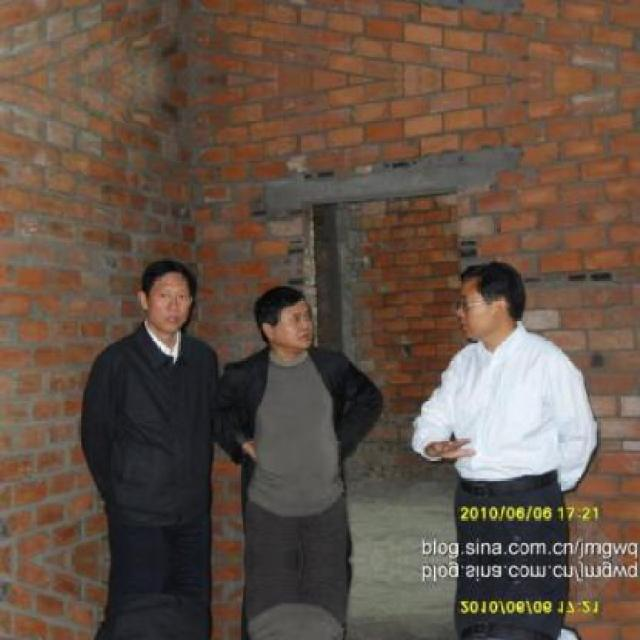nohelmet: (454, 263, 528, 342), (134, 258, 192, 336), (257, 286, 317, 352)
